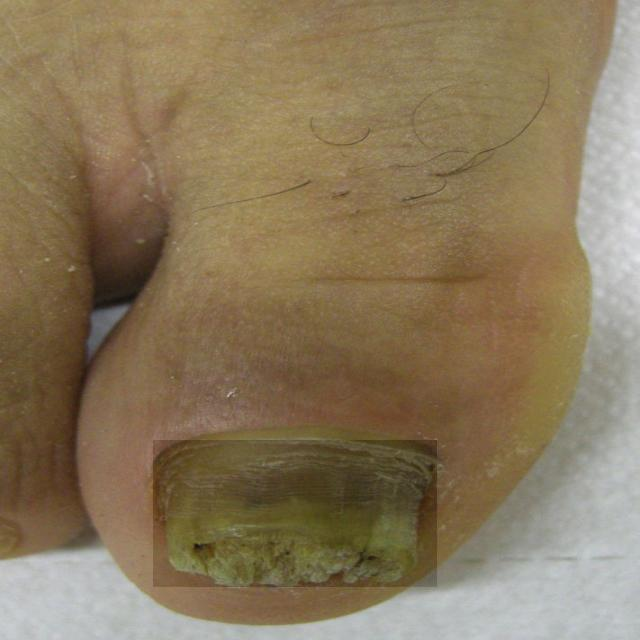diabetes: (153, 441, 437, 587)
